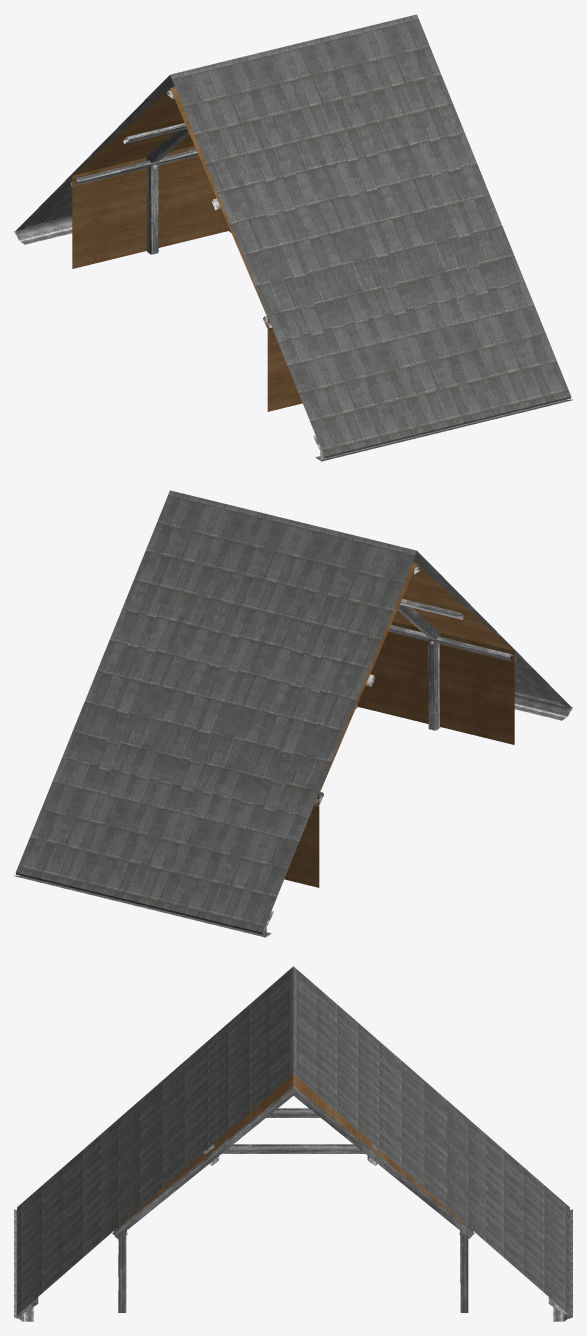
File: SM_Roof_C3.fbx
The picture shows the model from 3 angles, top to bottom: view 1: azimuth 30°, elevation 25°; view 2: azimuth 150°, elevation 25°; view 3: azimuth 270°, elevation 25°; orthographic projection. The views are drawn at different scales.
Parts seen in each view (by area): view 1: SM_Roof_C3; view 2: SM_Roof_C3; view 3: SM_Roof_C3.
Boxes of the visible parts, x1,y1,x2,y2 form: SM_Roof_C3: [14, 14, 572, 461]; SM_Roof_C3: [14, 490, 572, 937]; SM_Roof_C3: [14, 966, 572, 1321].
Bounding box in the file's own units: 420 × 919 × 449.
Materials: 5 (5 with a texture image).
